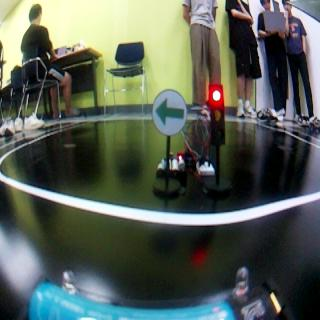left: (152, 92, 187, 131)
red: (210, 82, 223, 195)
